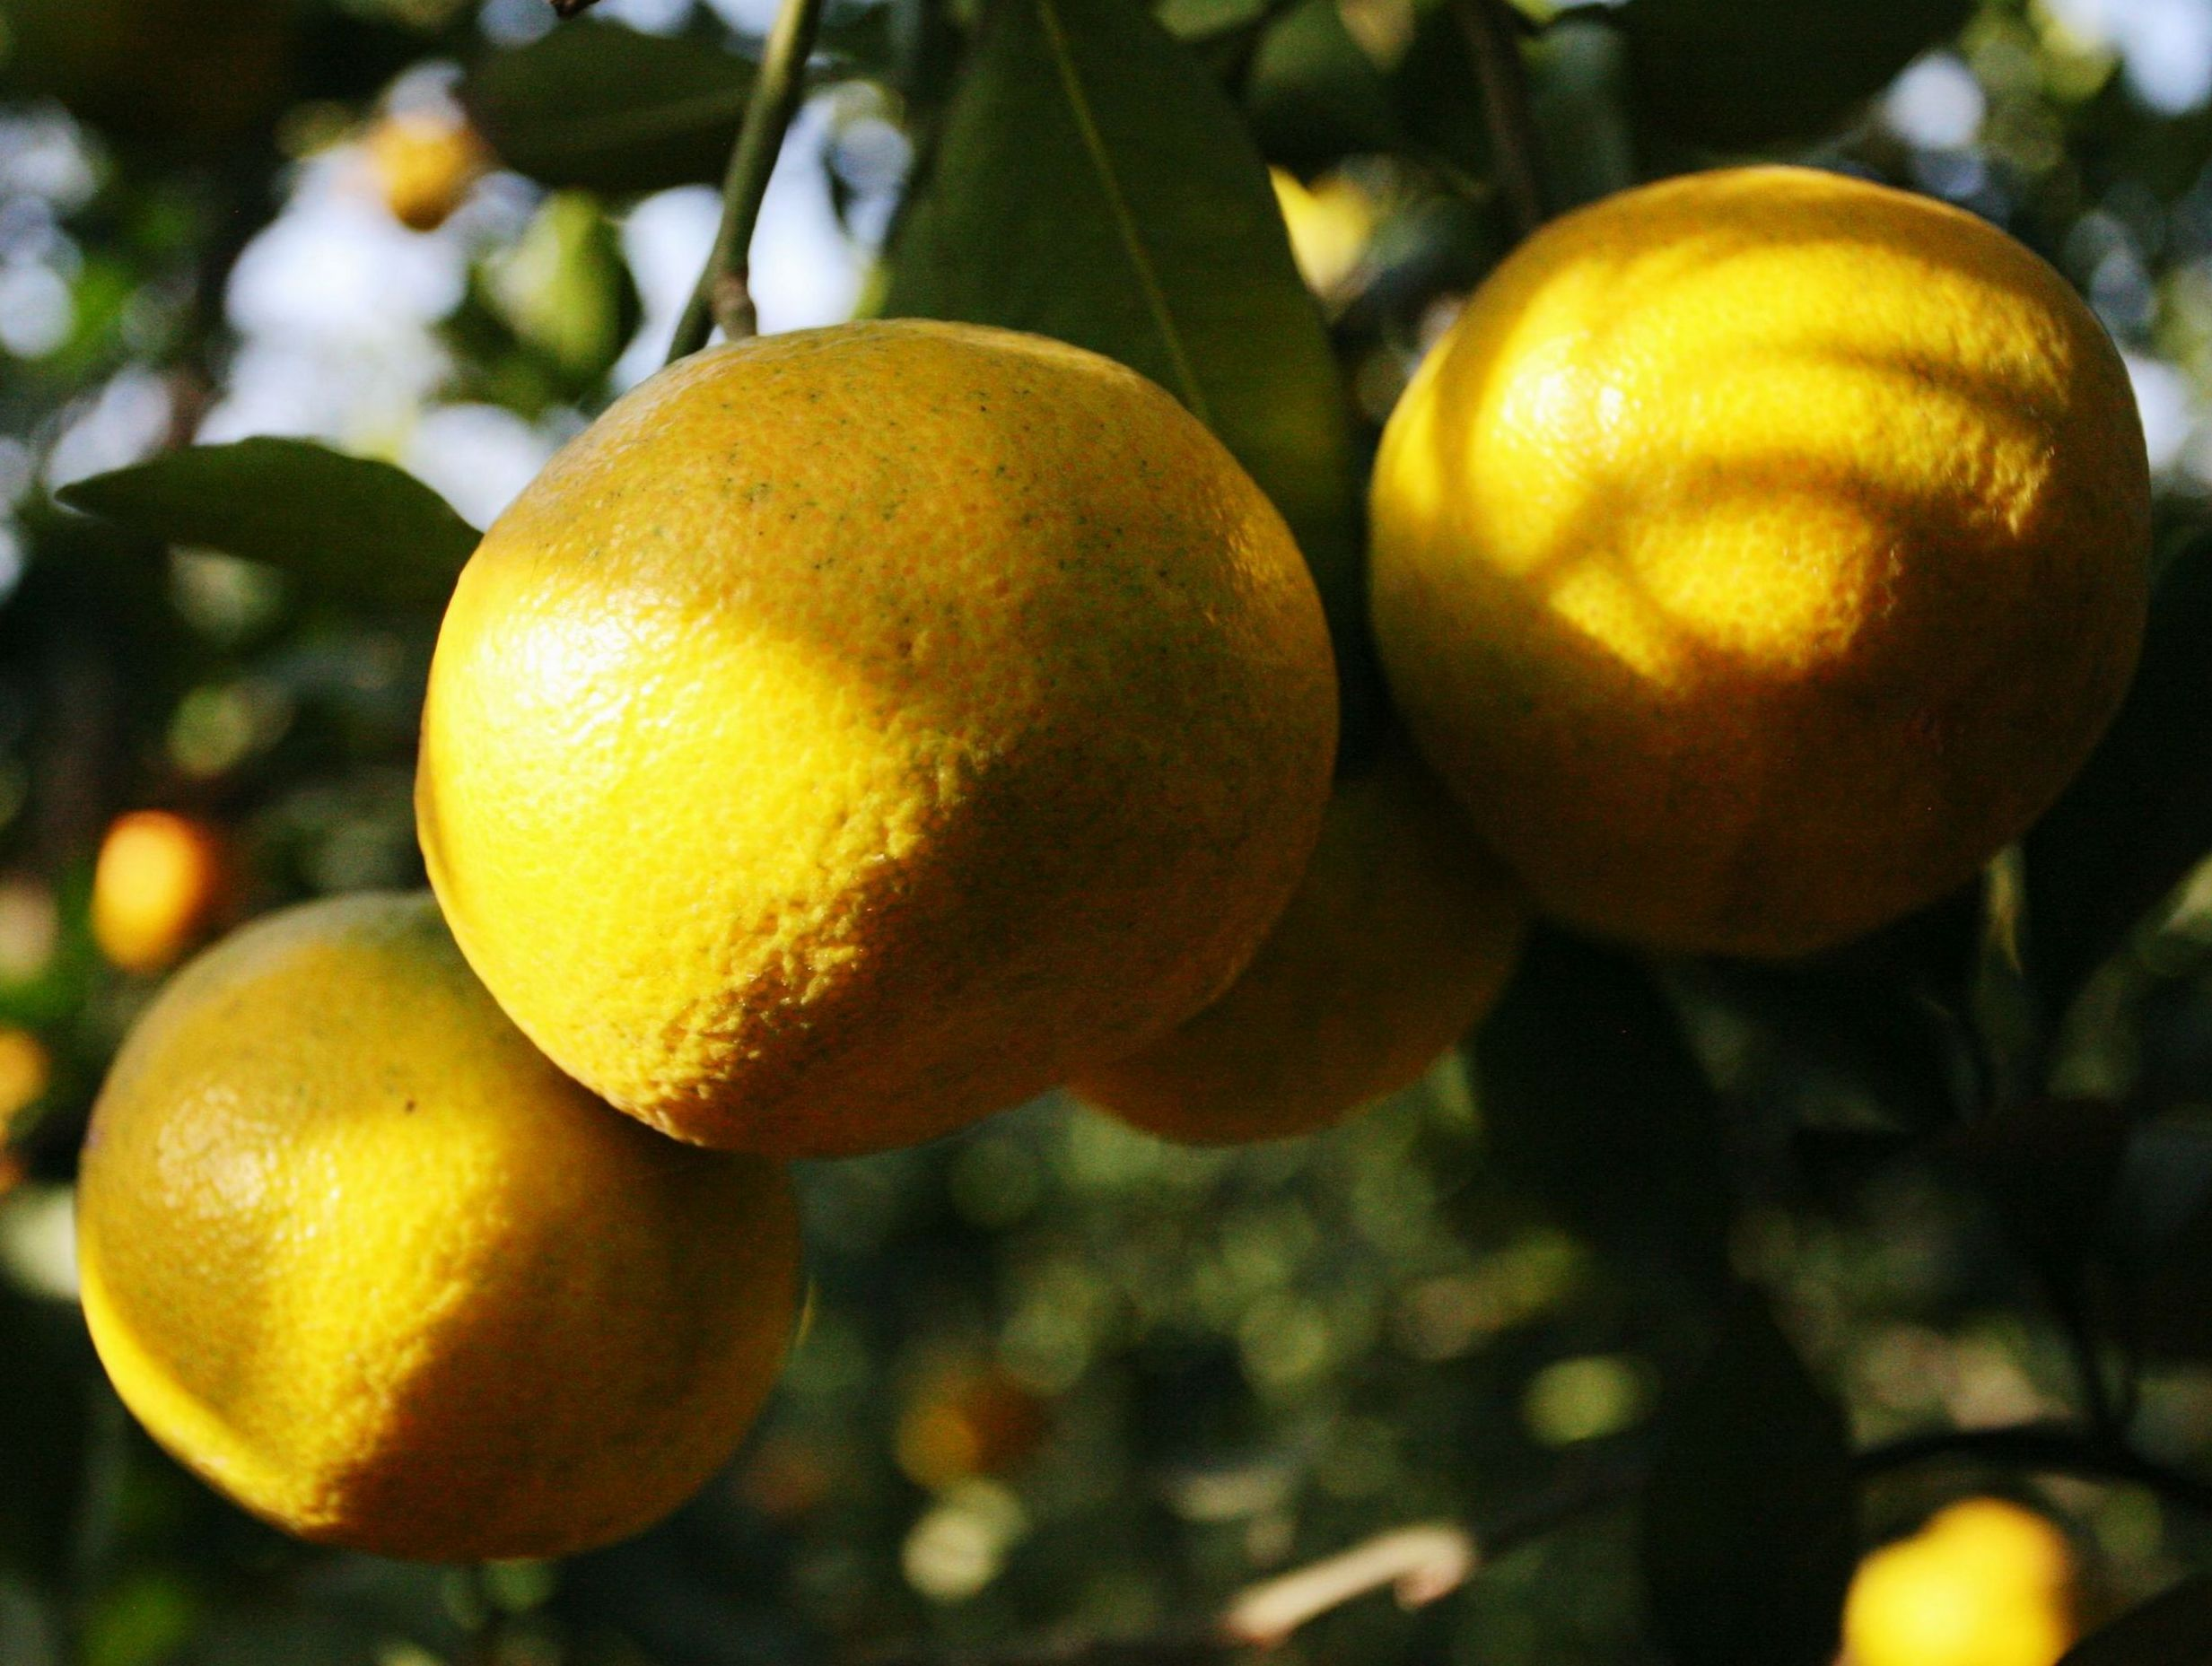orange: (406, 315, 1332, 1164), (1363, 163, 2144, 955), (67, 894, 809, 1564)
